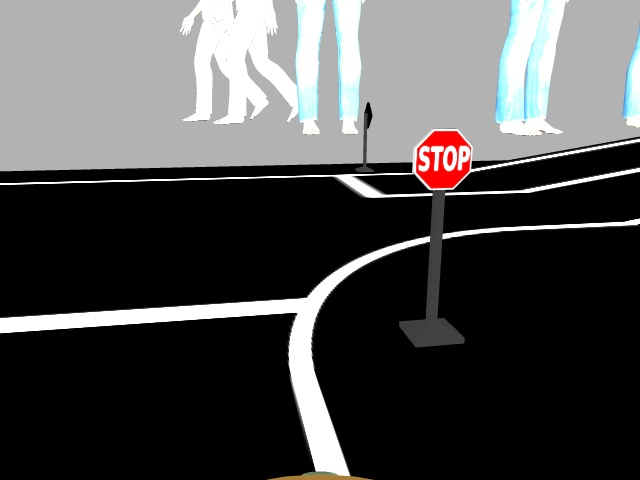Stop: (413, 128, 472, 187)
